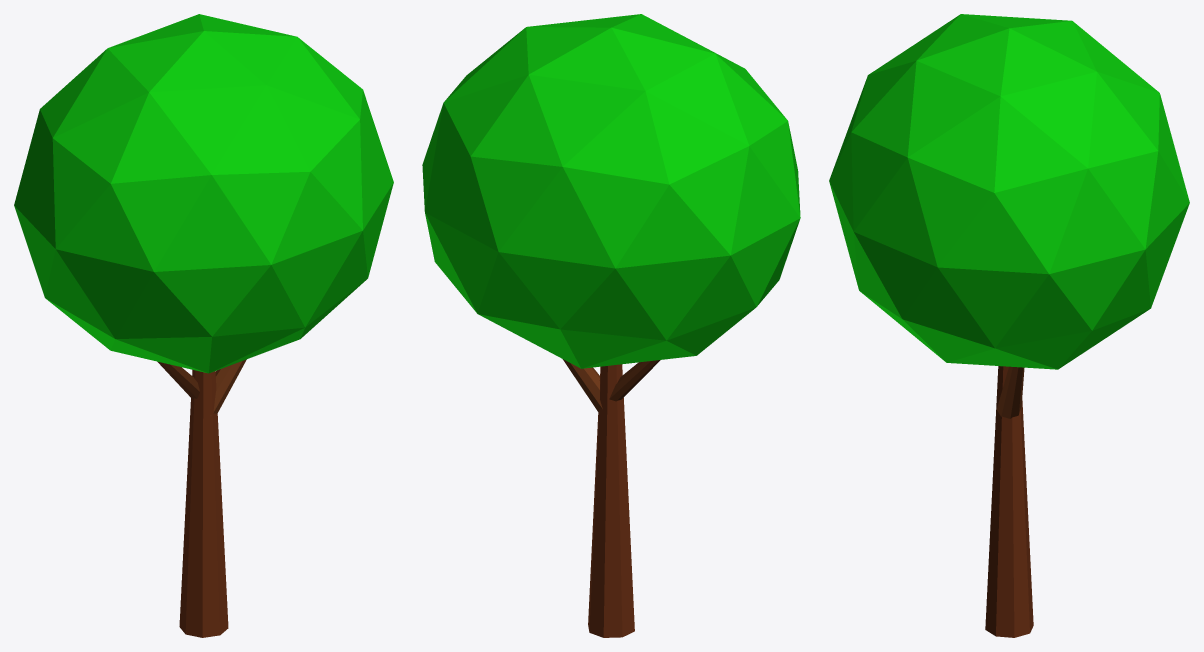
File: arbol 1.obj
3 views of the same model, side by side, from view 1: azimuth 30°, elevation 25°; view 2: azimuth 150°, elevation 25°; view 3: azimuth 270°, elevation 25° (orthographic).
Visible parts, largest first — view 1: 3_Cylinder.015; view 2: 3_Cylinder.015; view 3: 3_Cylinder.015.
Part boxes in pixels (<box>): 3_Cylinder.015: <box>14,14,393,637</box>; 3_Cylinder.015: <box>422,14,800,637</box>; 3_Cylinder.015: <box>829,14,1189,637</box>.
Bounding box in the file's own units: 5.5 × 9.32 × 5.09.
